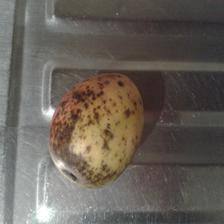Mango Rotten: (40, 73, 143, 188)
